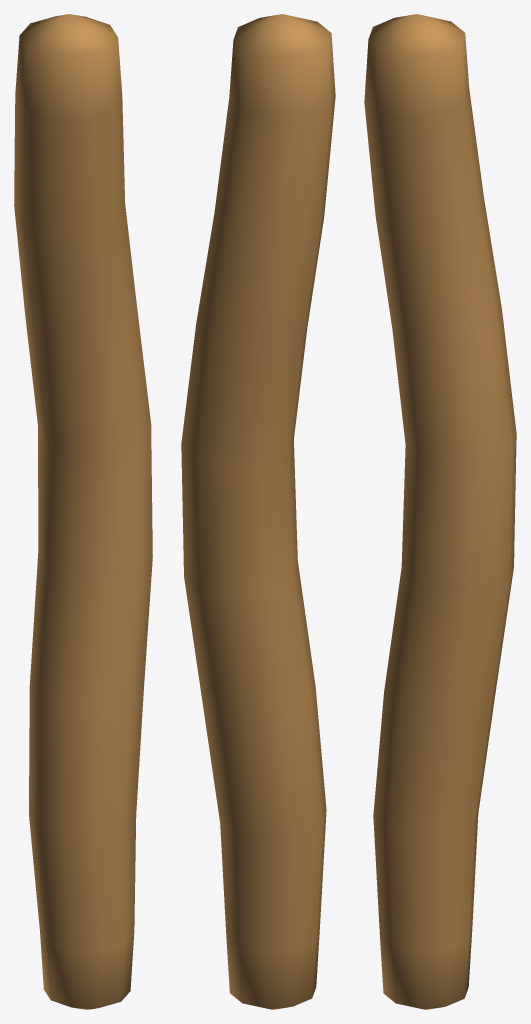
File: femur_T2_right_leg.obj
The picture shows the model from 3 angles, left to right: view 1: azimuth 30°, elevation 25°; view 2: azimuth 150°, elevation 25°; view 3: azimuth 330°, elevation 25°; orthographic projection.
Size of the model in its own units: 0.0124 by 0.0907 by 0.0107.
